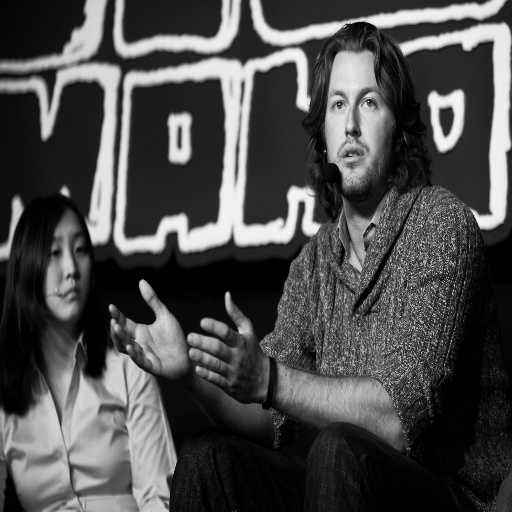hand: (186, 289, 266, 405), (108, 277, 191, 383)
